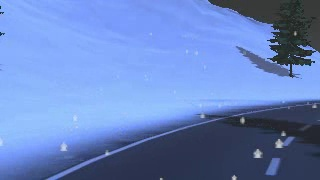Lane: (46, 102, 319, 179)
